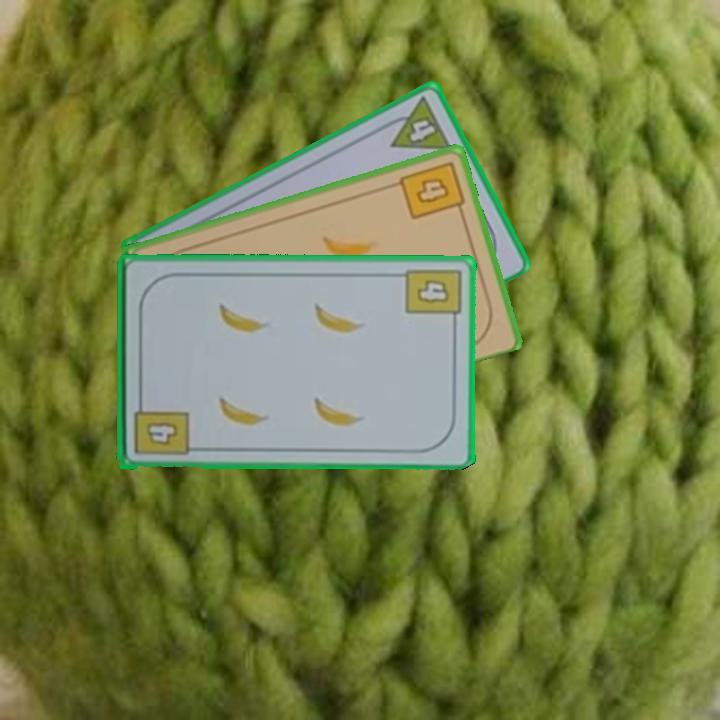4b: (396, 157, 468, 222), (402, 264, 463, 329), (130, 394, 191, 458)
4p: (378, 93, 455, 154)
